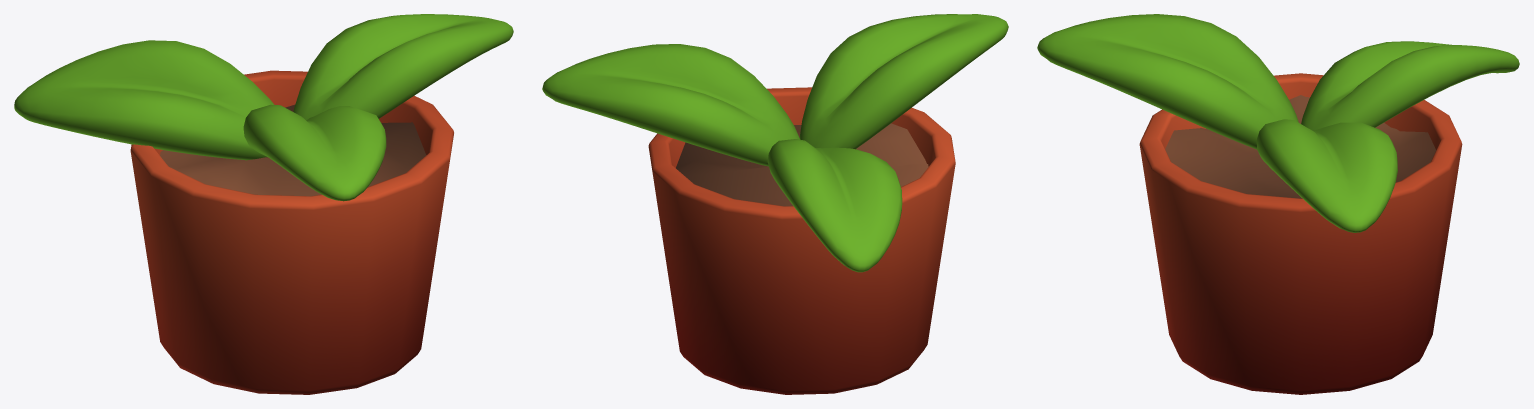
File: SM_flower1.fbx
The picture shows the model from 3 angles, left to right: view 1: azimuth 30°, elevation 25°; view 2: azimuth 150°, elevation 25°; view 3: azimuth 270°, elevation 25°; orthographic projection. The views are drawn at different scales.
Parts seen in each view (by area): view 1: Cylinder.001; view 2: Cylinder.001; view 3: Cylinder.001.
Part boxes in pixels (x1=…): Cylinder.001: x1=14, y1=14, x2=513, y2=394; Cylinder.001: x1=542, y1=14, x2=1008, y2=394; Cylinder.001: x1=1037, y1=14, x2=1519, y2=394.
Bounding box in the file's own units: 155 × 103 × 156.
